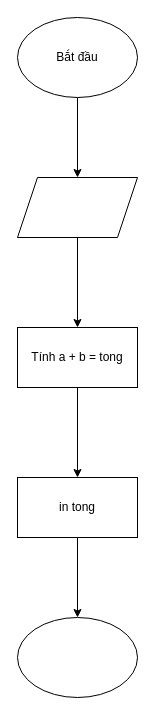
Image size: 155x715. Some labels were removed from this diagram. Each missing label, with the box of its shape:
Kết thúc: (16, 616, 138, 698)
Nhập a, b: (16, 176, 138, 238)
